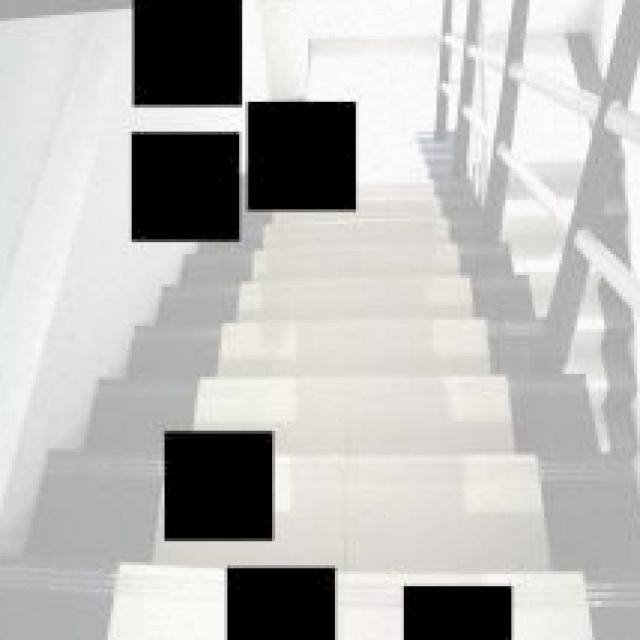downstair: (247, 225, 522, 429)
